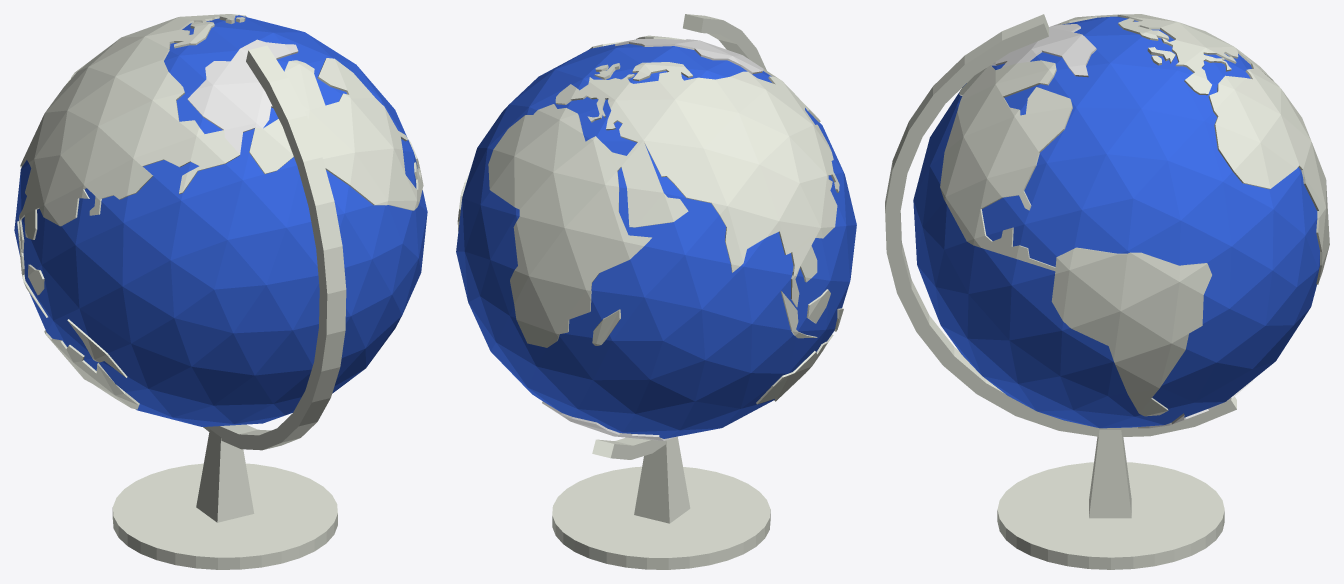
Rendered from globe.glb.
3 views of the same model, side by side, from view 1: azimuth 30°, elevation 25°; view 2: azimuth 150°, elevation 25°; view 3: azimuth 270°, elevation 25° (orthographic). The views are drawn at different scales.
Parts seen in each view (by area): view 1: Icosphere.001_2, Cylinder.012, Cylinder.011, Cube.068; view 2: Icosphere.001_2, Cylinder.012, Cube.068, Cylinder.011; view 3: Icosphere.001_2, Cylinder.012, Cylinder.011, Cube.068.
Boxes of the visible parts, x1,y1,x2,y2 form: Icosphere.001_2: (14,14,427,426); Cylinder.012: (112,463,337,569); Cylinder.011: (203,45,346,450); Cube.068: (196,429,254,522); Icosphere.001_2: (456,35,856,440); Cylinder.012: (552,466,770,569); Cube.068: (634,437,690,523); Cylinder.011: (592,14,766,459); Icosphere.001_2: (913,14,1329,428); Cylinder.012: (997,462,1224,569); Cylinder.011: (885,14,1236,436); Cube.068: (1089,430,1131,518).
Size of the model in its own units: 2.01 by 2.66 by 2.13.
